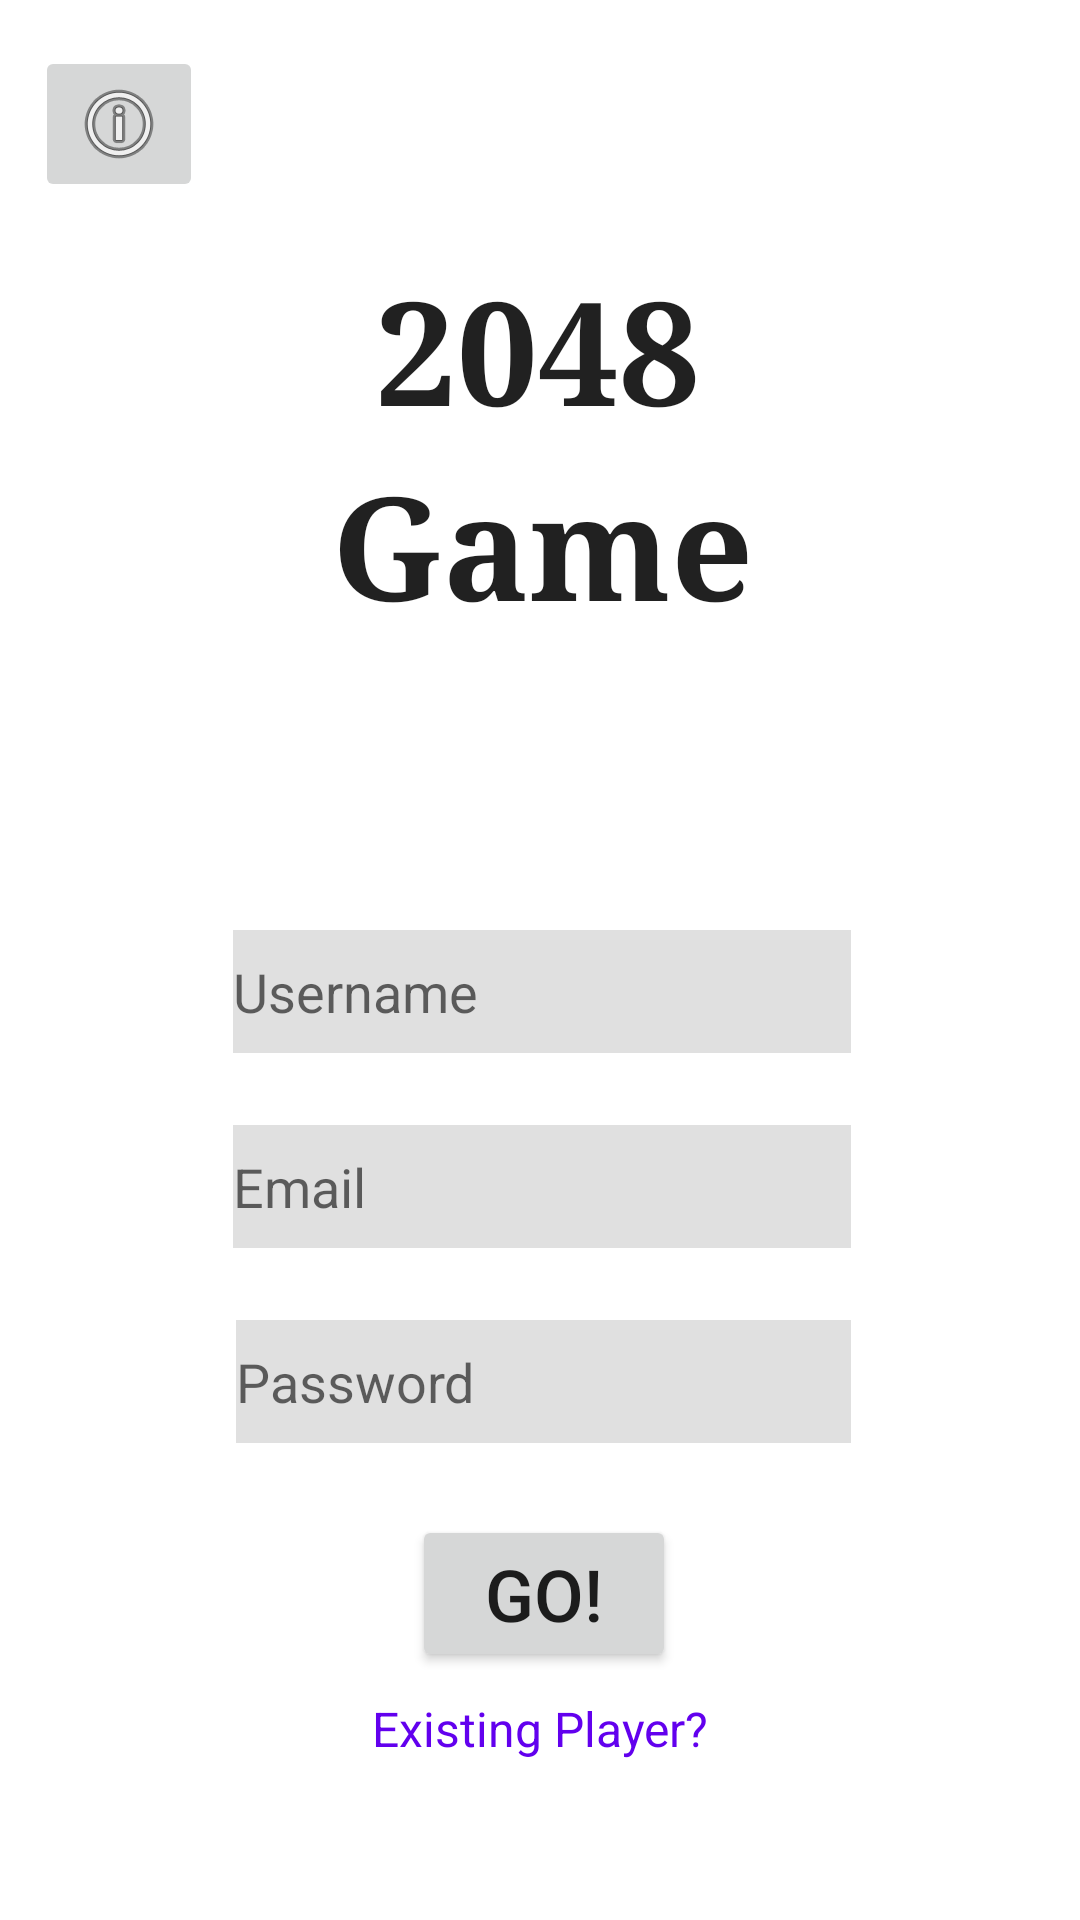

Point at icon controls on the screen. Image size 1080*1920, points as point (x, y).
info details: point (119, 124)
